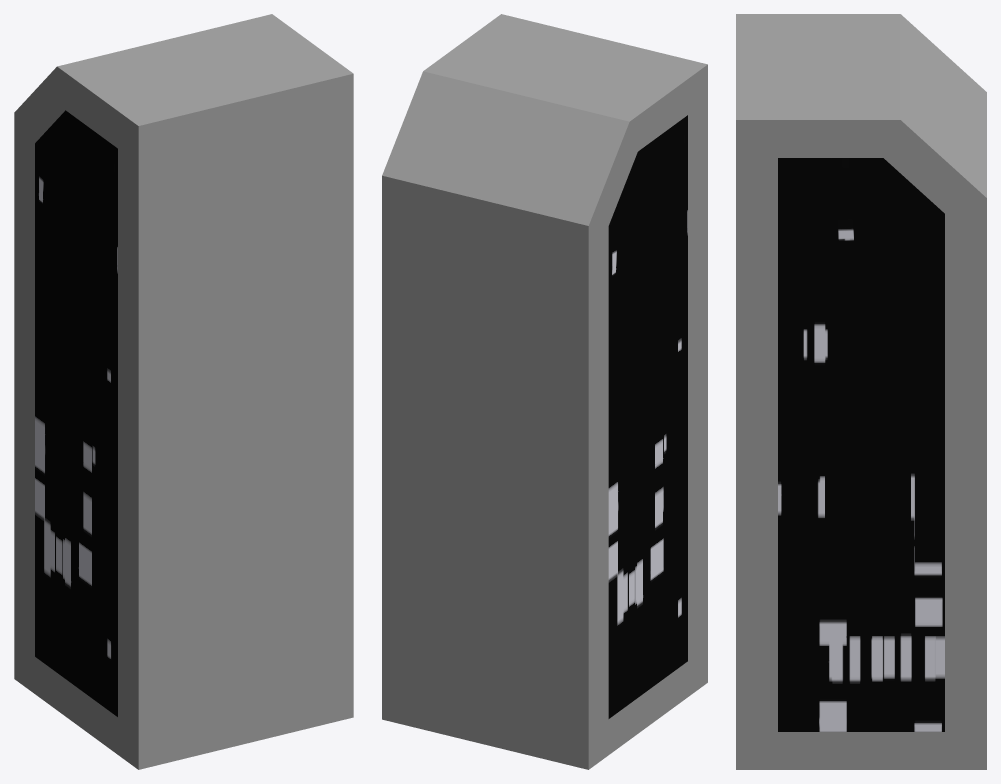
File: Skyscrape01.fbx
3 renders of one model, left to right at view 1: azimuth 30°, elevation 25°; view 2: azimuth 150°, elevation 25°; view 3: azimuth 270°, elevation 25°, orthographic. The views are drawn at different scales.
Parts seen in each view (by area): view 1: Skyscrape01; view 2: Skyscrape01; view 3: Skyscrape01.
Boxes of the visible parts, x1,y1,x2,y2 form: Skyscrape01: (14, 14, 353, 769); Skyscrape01: (382, 14, 707, 769); Skyscrape01: (736, 14, 986, 769).
Bounding box in the file's own units: 0.276 × 0.7892 × 0.276.
